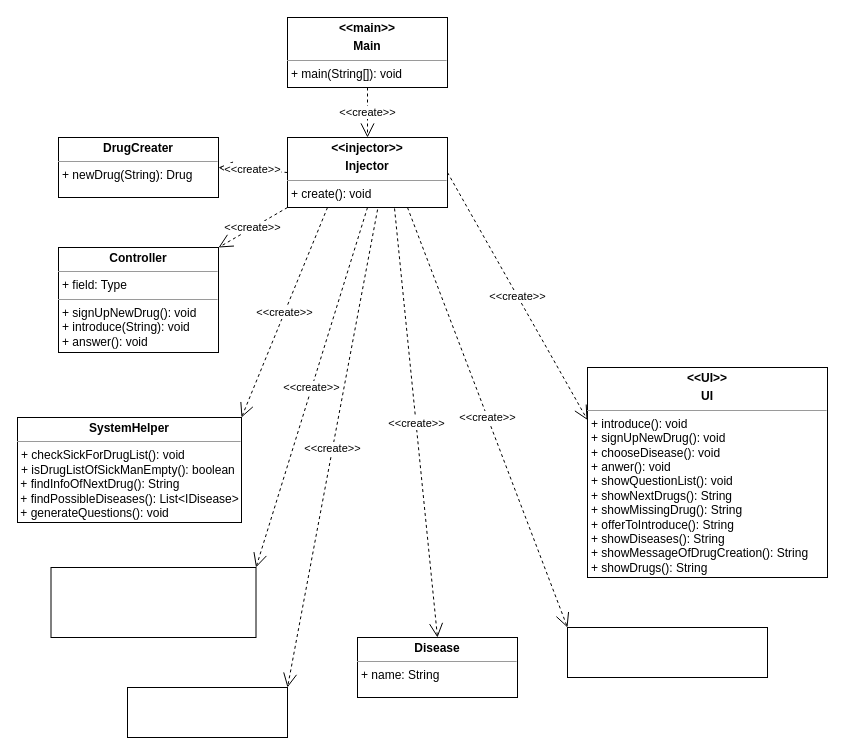
The diagram is 845 pixels wide and 755 high, and some of its shapes have lost their labels. The centre of each missing label's shape, as x and y in pixels:
"DrugChecker + checkDrugs(List<Drug>): boolean" belongs at (x=667, y=652).
"DrugSetter + updateDrugListForUser(User): void + setDrugListForUser(User): void" belongs at (x=153, y=602).
"NextDrug + calcNextDrug(User): String" belongs at (x=207, y=712).
